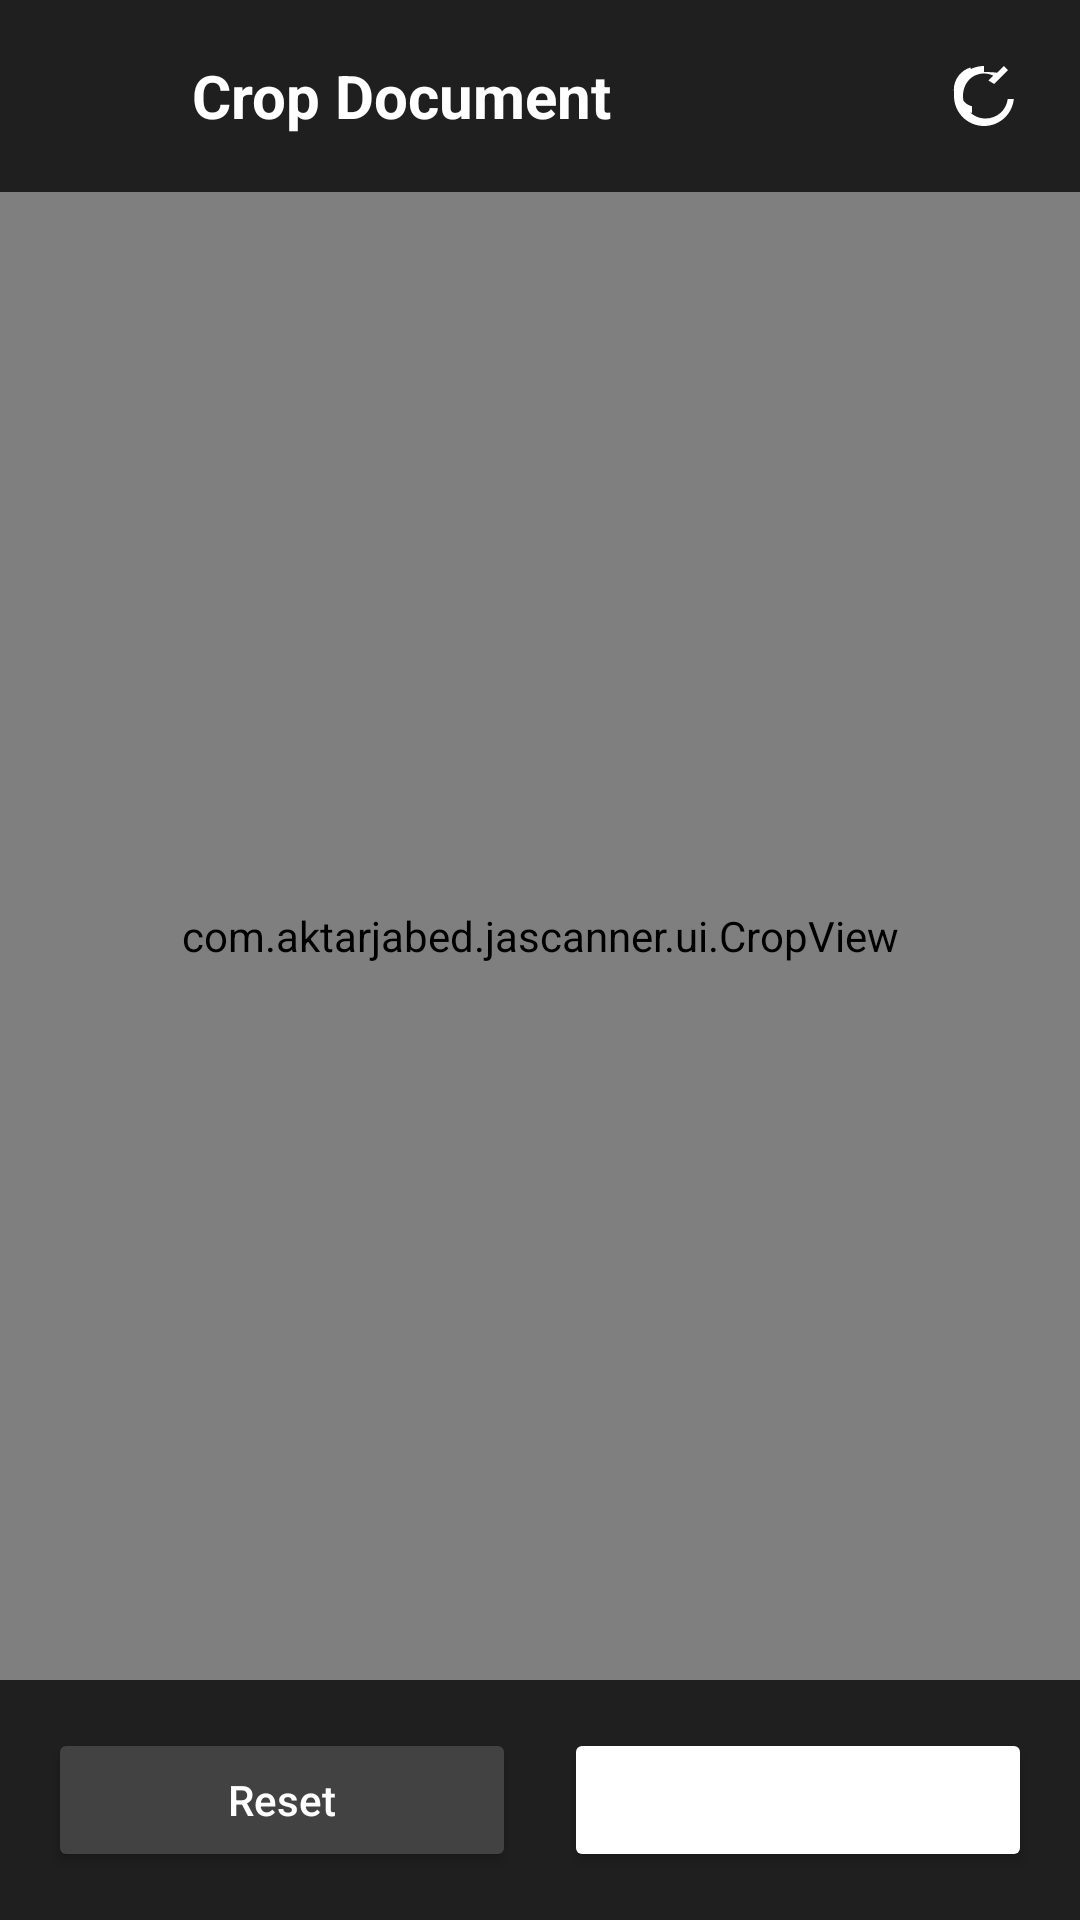

Icons on this 1080x1920 Android screen, each with the point to tap as (x,y):
Rotate: (983,96)
